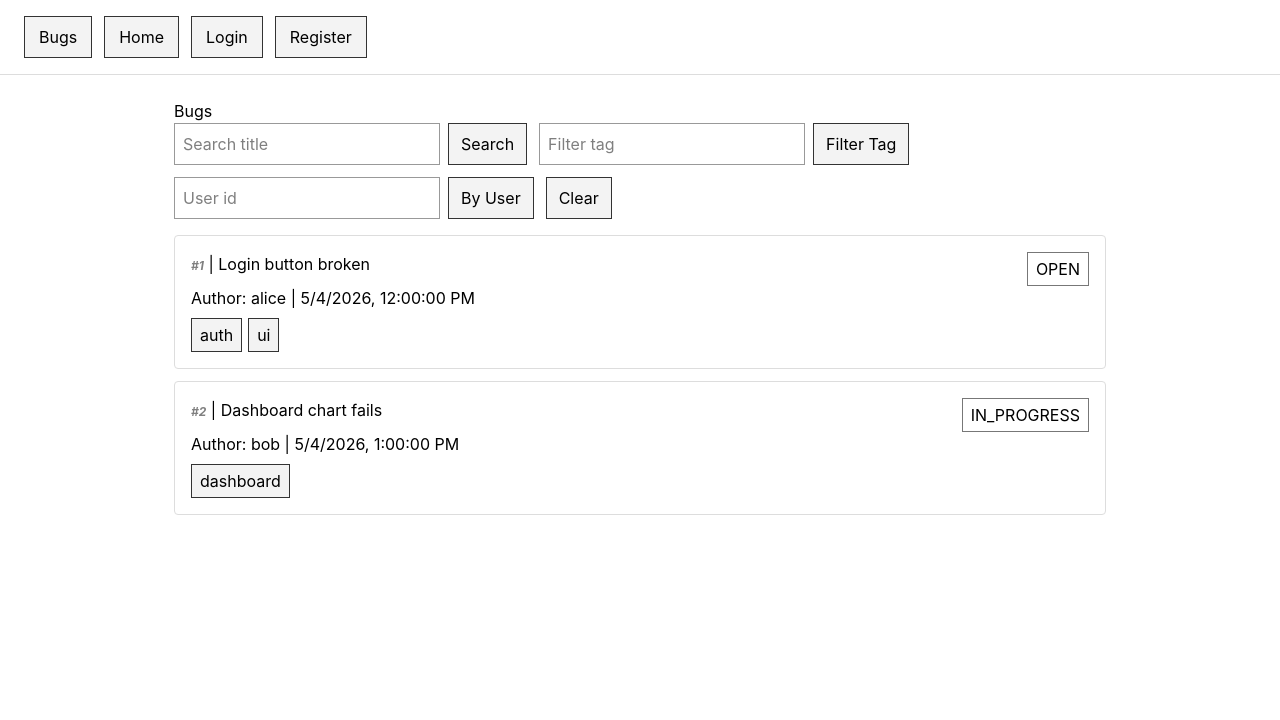
it: bugs › loads the bug list and bug detail while unauthenticated
This screenshot has width=1280, height=720.
Expected: the text "OPEN" is shown, [1027, 252, 1089, 286]
Expected: the text "alice" is shown, [251, 288, 286, 308]
Click the link "#1 | Login button broken". click: (281, 264)
box: [191, 254, 370, 274]
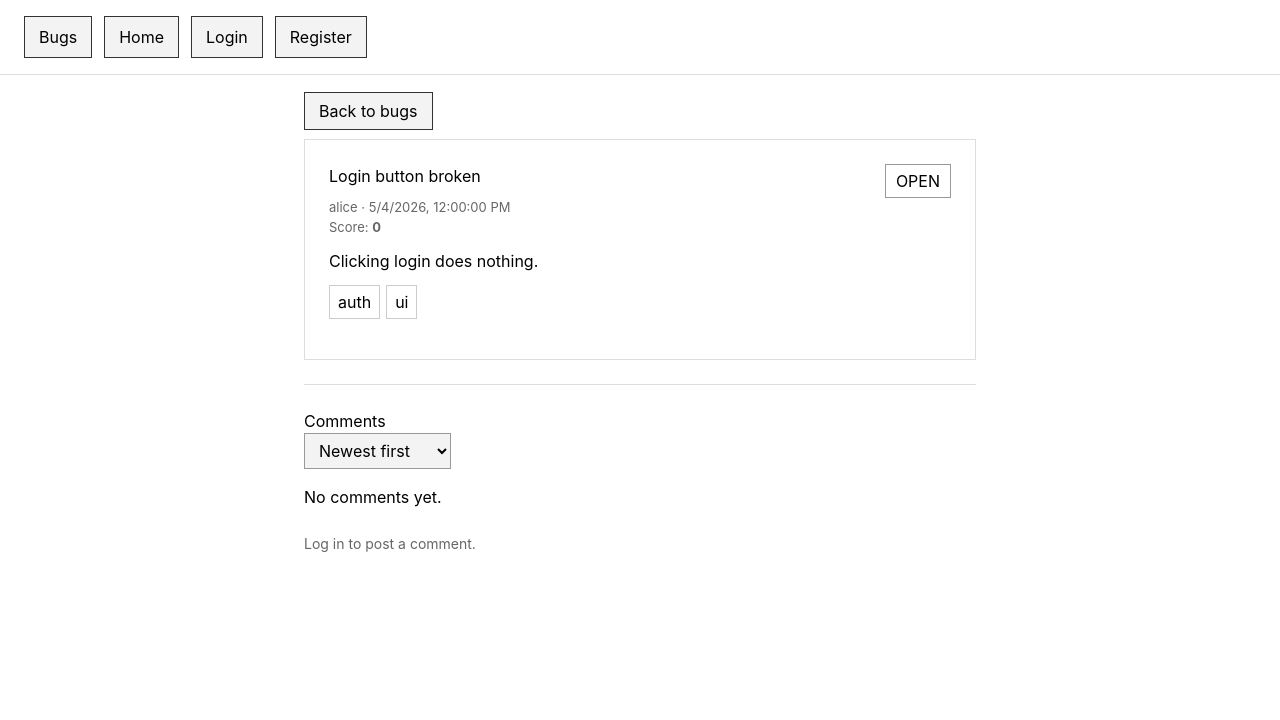
Result: the text "Clicking login does nothing." is shown at [329, 251, 538, 271]
Result: the text "No comments yet." is shown at [304, 487, 442, 507]
